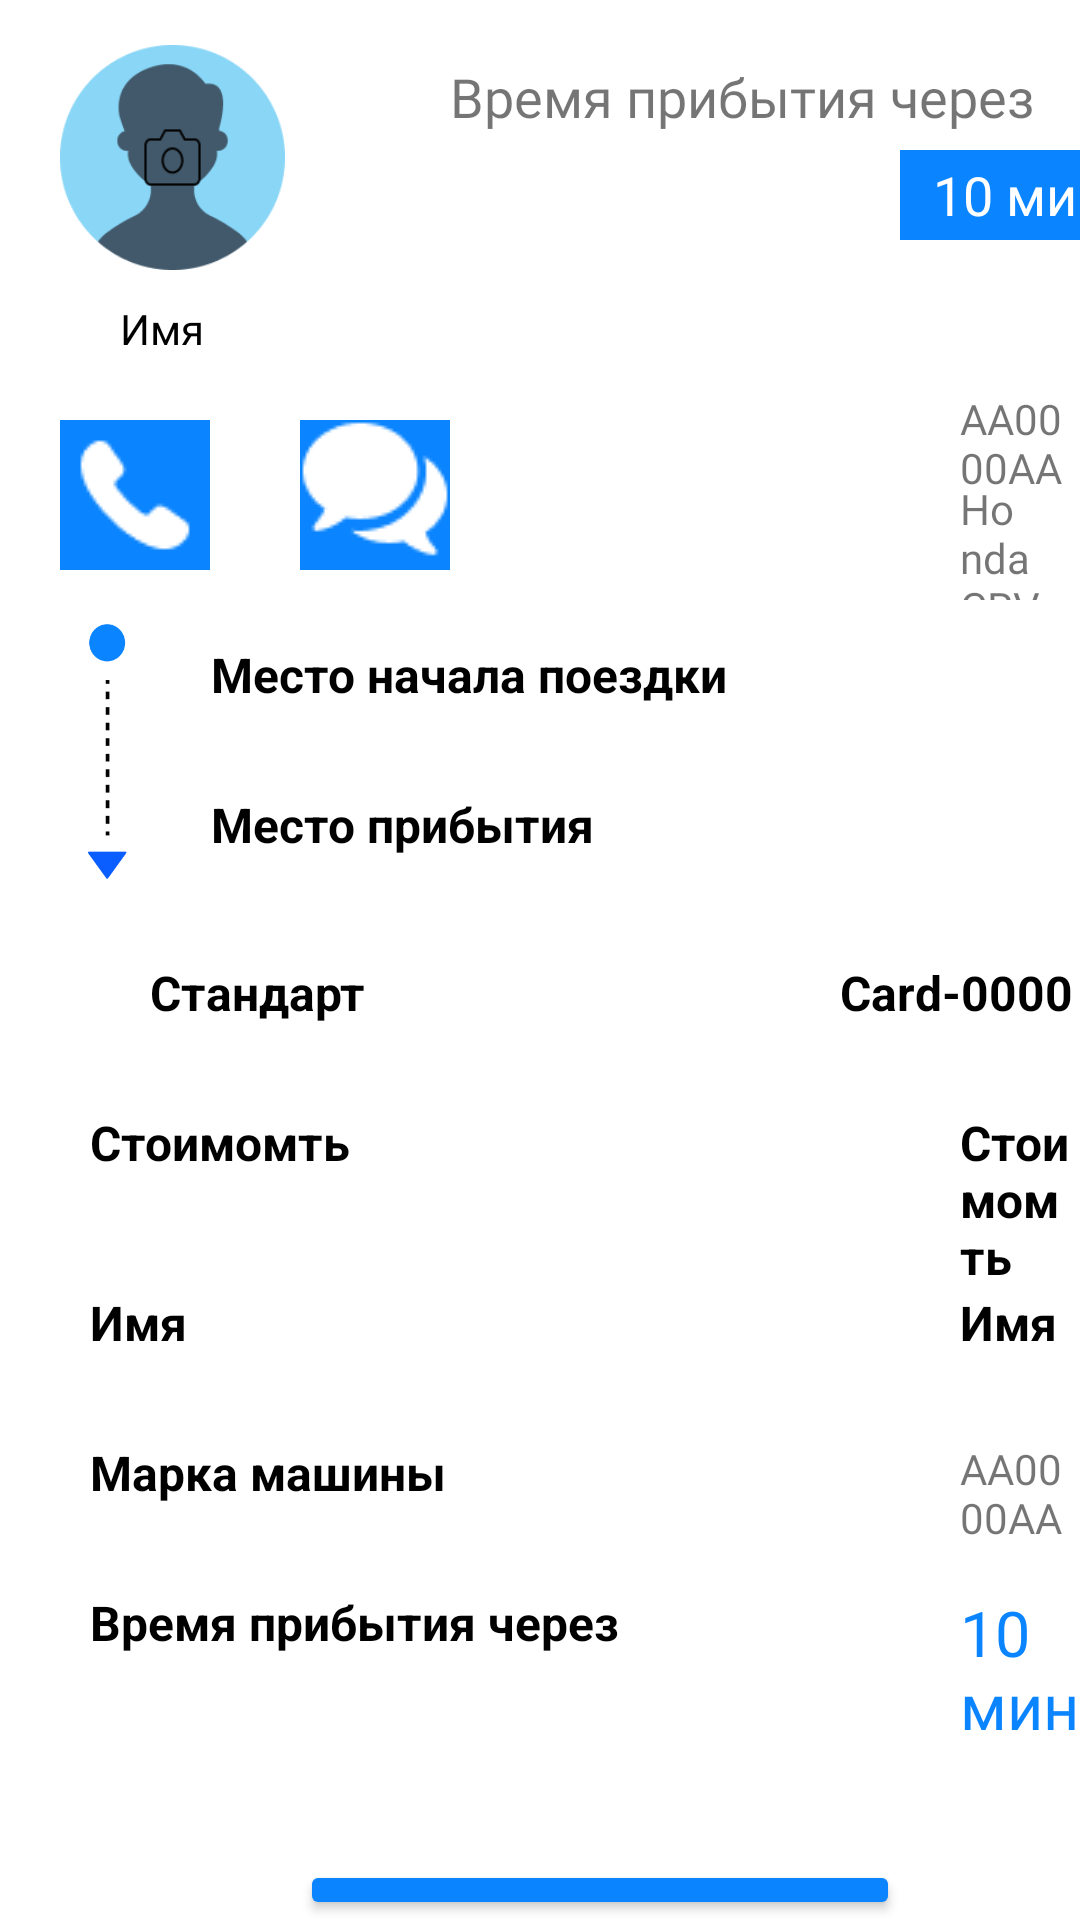

Screen size 1080px x 1920px. Icon name, then its box in pixels as (x1, y1, x2, y2):
tel: (60, 420, 210, 570)
